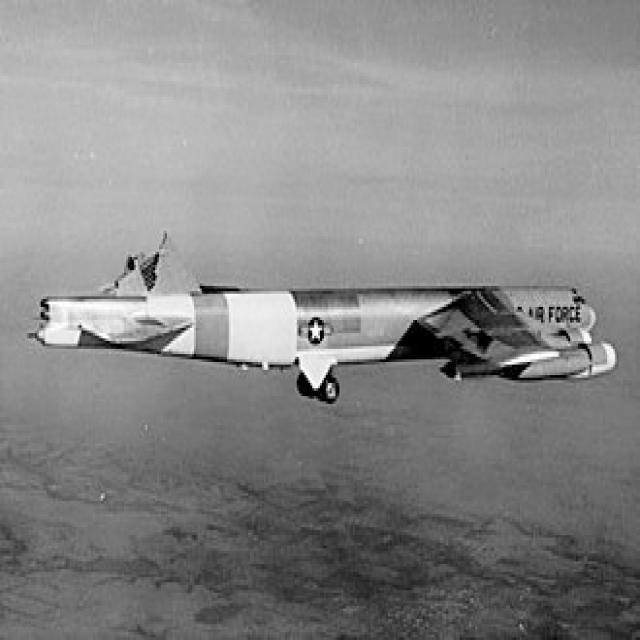B52: (27, 195, 628, 450)
